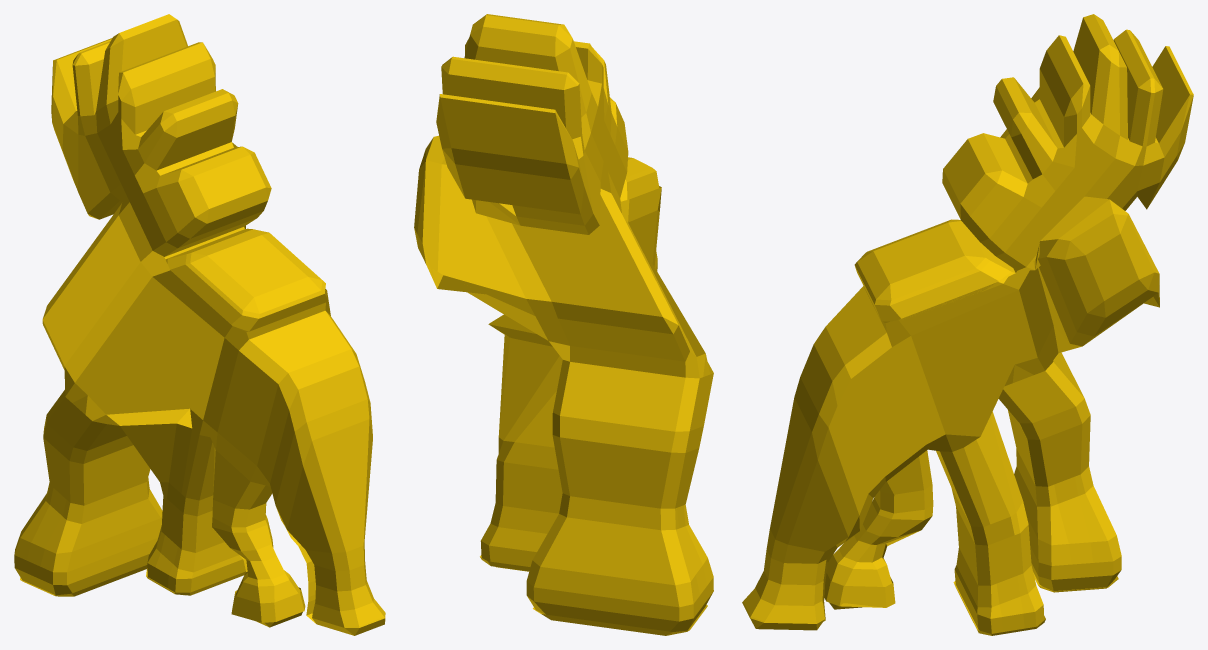
Rendered from Chimp.fbx.
The picture shows the model from 3 angles, left to right: view 1: azimuth 30°, elevation 25°; view 2: azimuth 150°, elevation 25°; view 3: azimuth 270°, elevation 25°; orthographic projection. The views are drawn at different scales.
Parts seen in each view (by area): view 1: Chimp; view 2: Chimp; view 3: Chimp.
Boxes of the visible parts, x1=… form: Chimp: x1=14, y1=14, x2=385, y2=635; Chimp: x1=414, y1=14, x2=713, y2=635; Chimp: x1=742, y1=14, x2=1193, y2=635.
Size of the model in its own units: 441 by 907 by 648.
